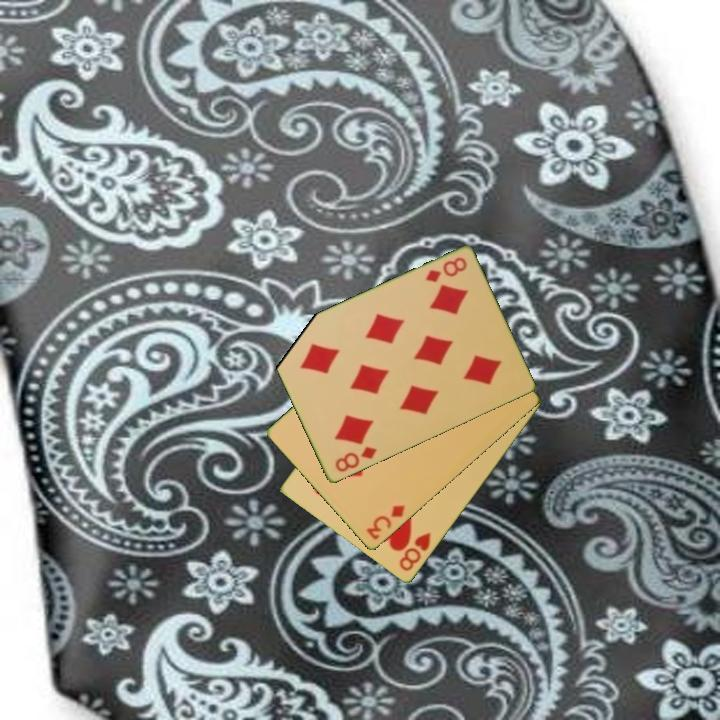3d: (363, 502, 408, 543)
8d: (331, 443, 380, 475), (421, 254, 470, 286)
8h: (395, 529, 434, 575)
